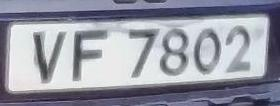0: (190, 21, 223, 79)
2: (222, 20, 254, 78)
7: (121, 23, 163, 84)
8: (155, 22, 195, 83)
F: (68, 27, 113, 86)
V: (28, 27, 69, 87)
